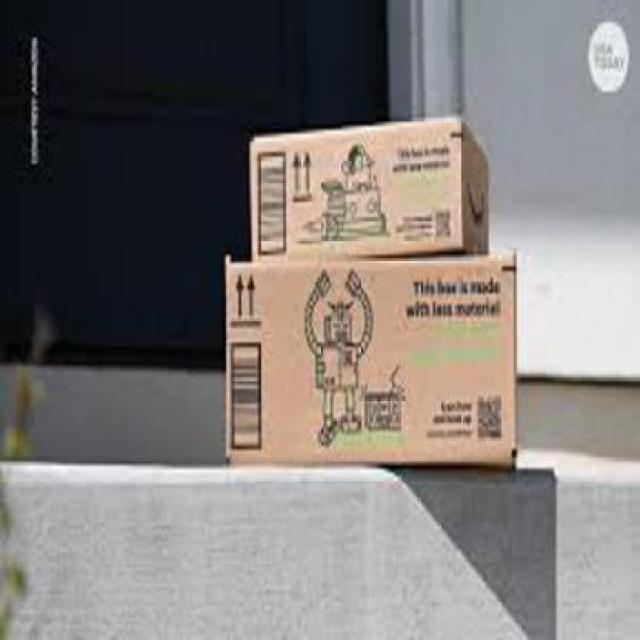box: (221, 255, 524, 475), (252, 117, 492, 257)
